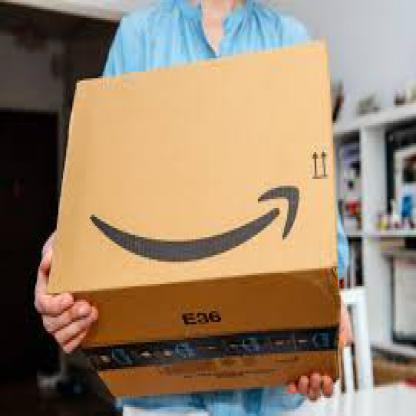package: (46, 35, 344, 399)
